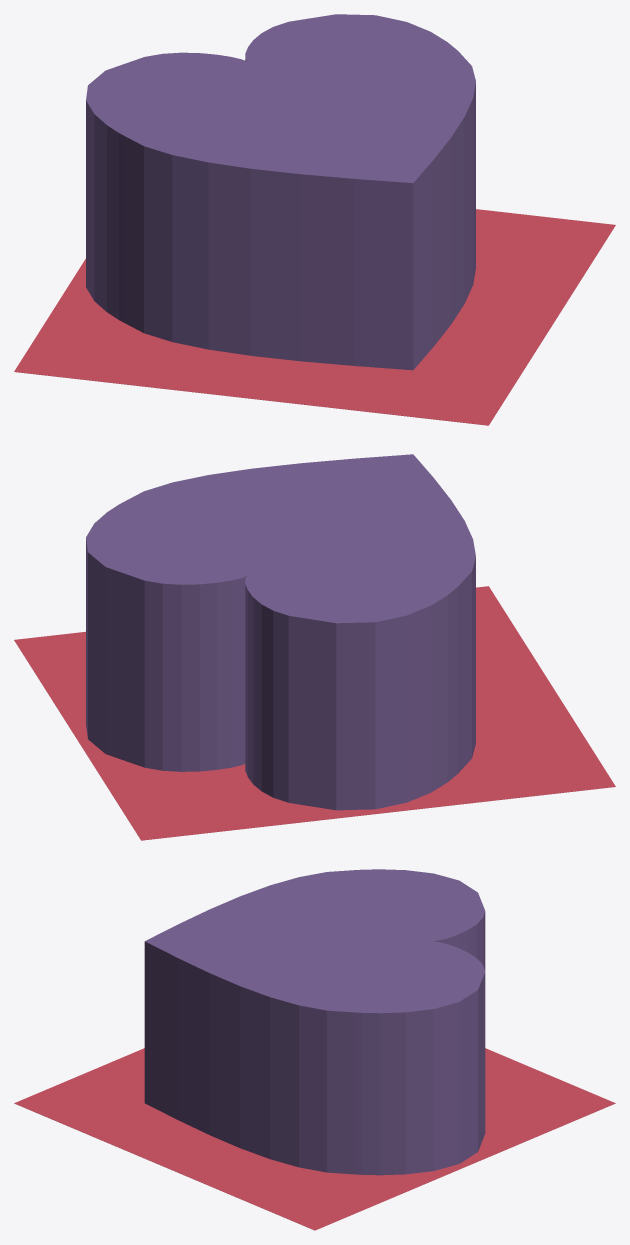
The model's file is UUU.glb.
The picture shows the model from 3 angles, top to bottom: view 1: azimuth 30°, elevation 25°; view 2: azimuth 150°, elevation 25°; view 3: azimuth 270°, elevation 25°; orthographic projection. The views are drawn at different scales.
Visible parts, largest first — view 1: Mesh_Mesh_head_geo.001_lambert2SG.001; view 2: Mesh_Mesh_head_geo.001_lambert2SG.001; view 3: Mesh_Mesh_head_geo.001_lambert2SG.001.
Boxes of the visible parts, left/top/right/bottom form: Mesh_Mesh_head_geo.001_lambert2SG.001: left=14, top=14, right=615, bottom=425; Mesh_Mesh_head_geo.001_lambert2SG.001: left=14, top=454, right=615, bottom=840; Mesh_Mesh_head_geo.001_lambert2SG.001: left=14, top=869, right=615, bottom=1230.
Size of the model in its own units: 0.0354 by 0.0105 by 0.0354.
